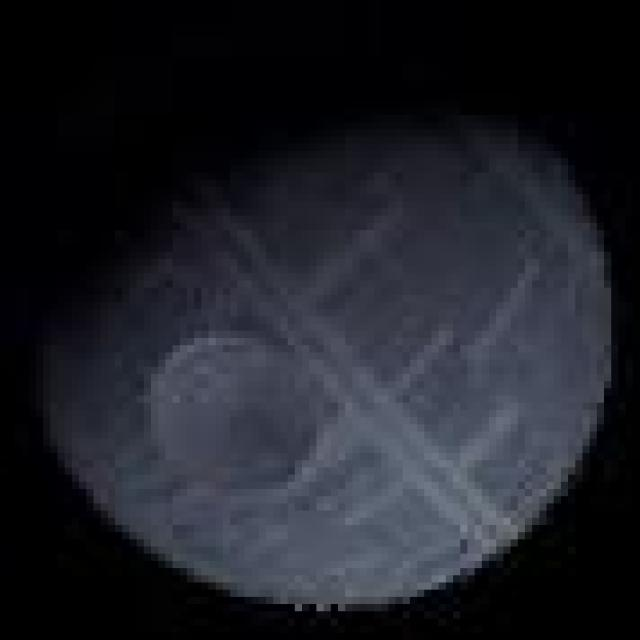Death Star: (21, 101, 618, 618)
